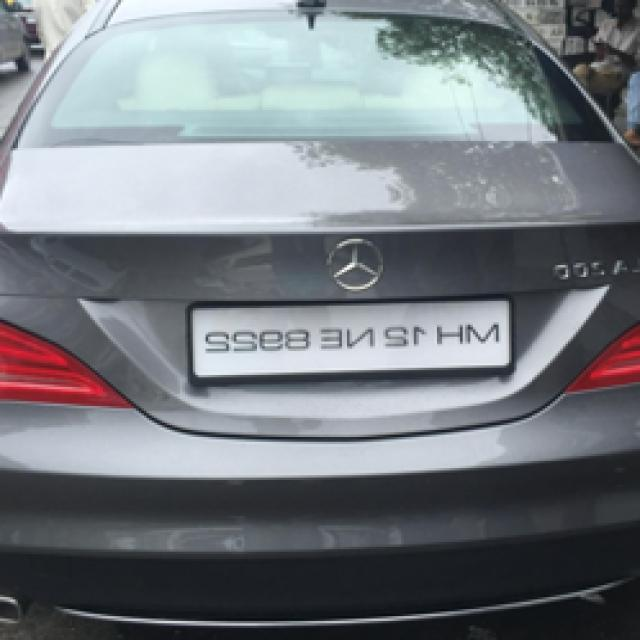number-plate: (187, 294, 505, 378)
